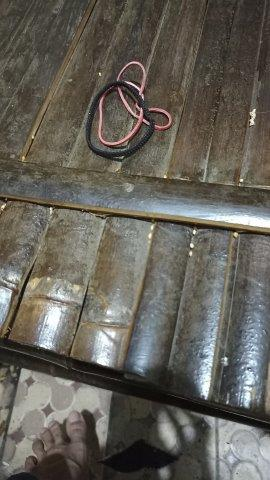karet: (86, 61, 172, 157)
